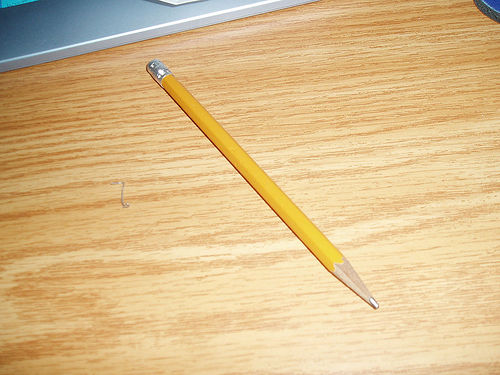pen_tip: (320, 245, 395, 319)
